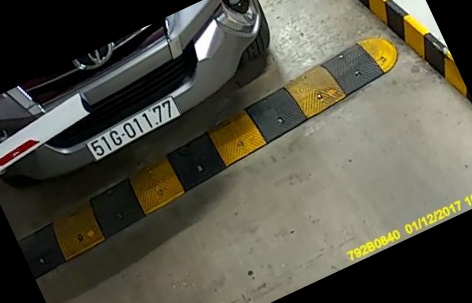plate: (83, 96, 180, 171)
